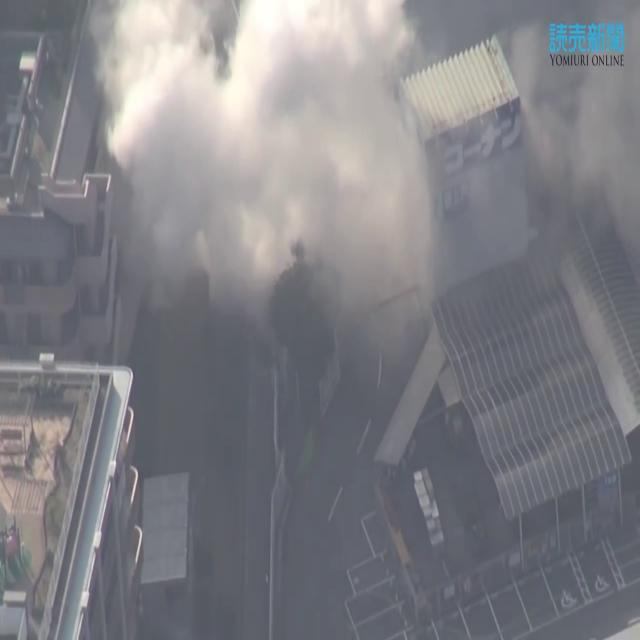Smoke: (0, 1, 459, 636)
